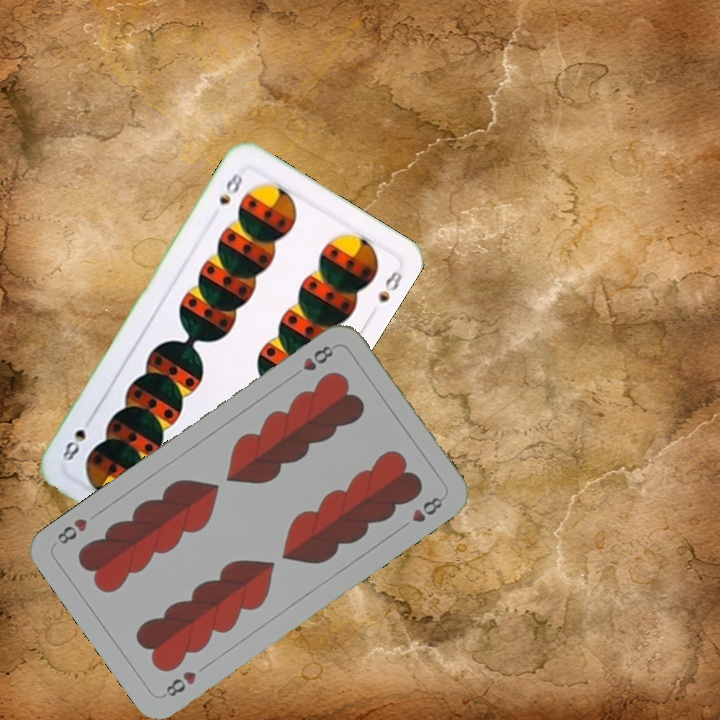H8: (287, 341, 336, 381), (158, 667, 199, 700)
S8: (214, 164, 248, 208)
